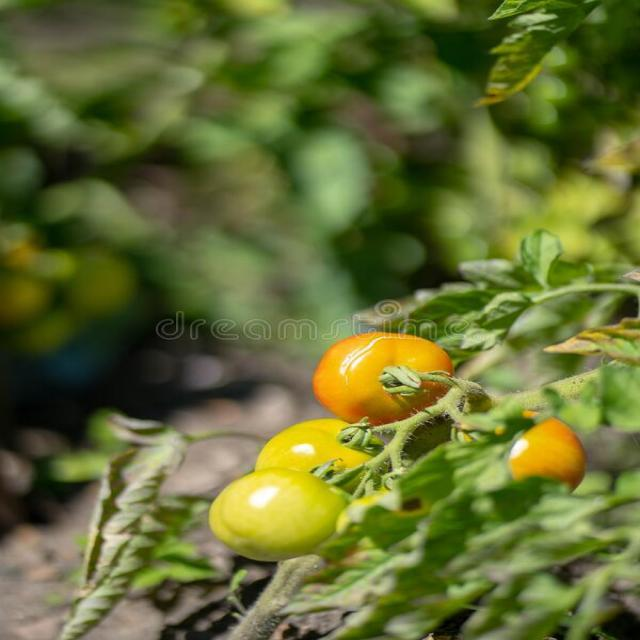yesil: (210, 438, 364, 584)
